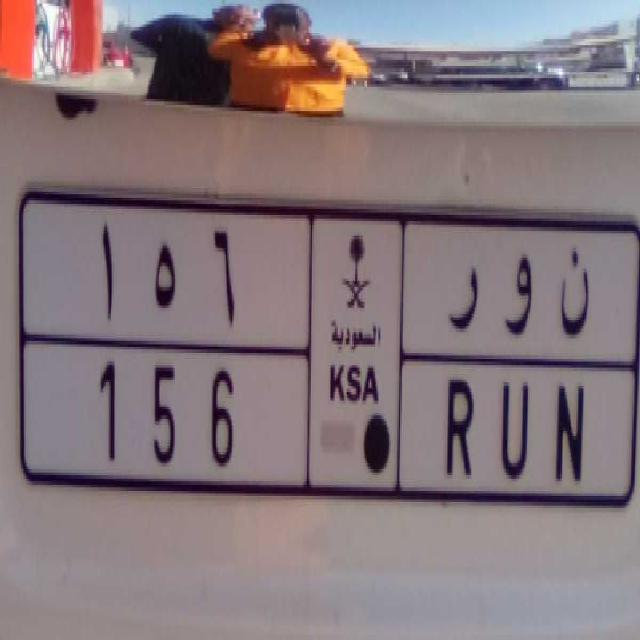license_plate: (74, 340, 604, 513)
